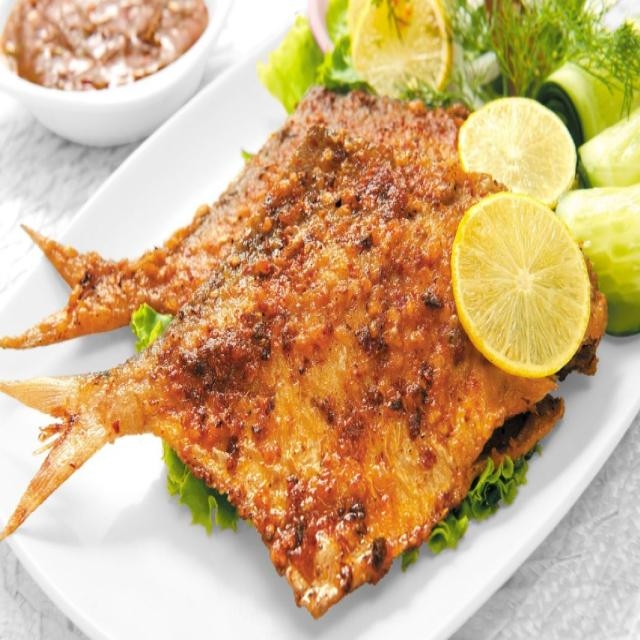FISH FRY: (0, 86, 564, 617)
